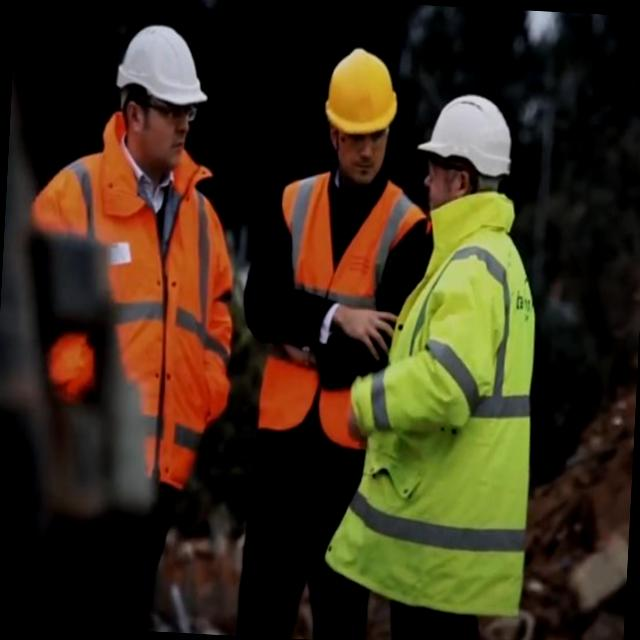helmet: (111, 16, 217, 111), (414, 90, 517, 180), (320, 41, 406, 142)
vest: (70, 145, 228, 508), (396, 228, 542, 614), (271, 173, 425, 452)
